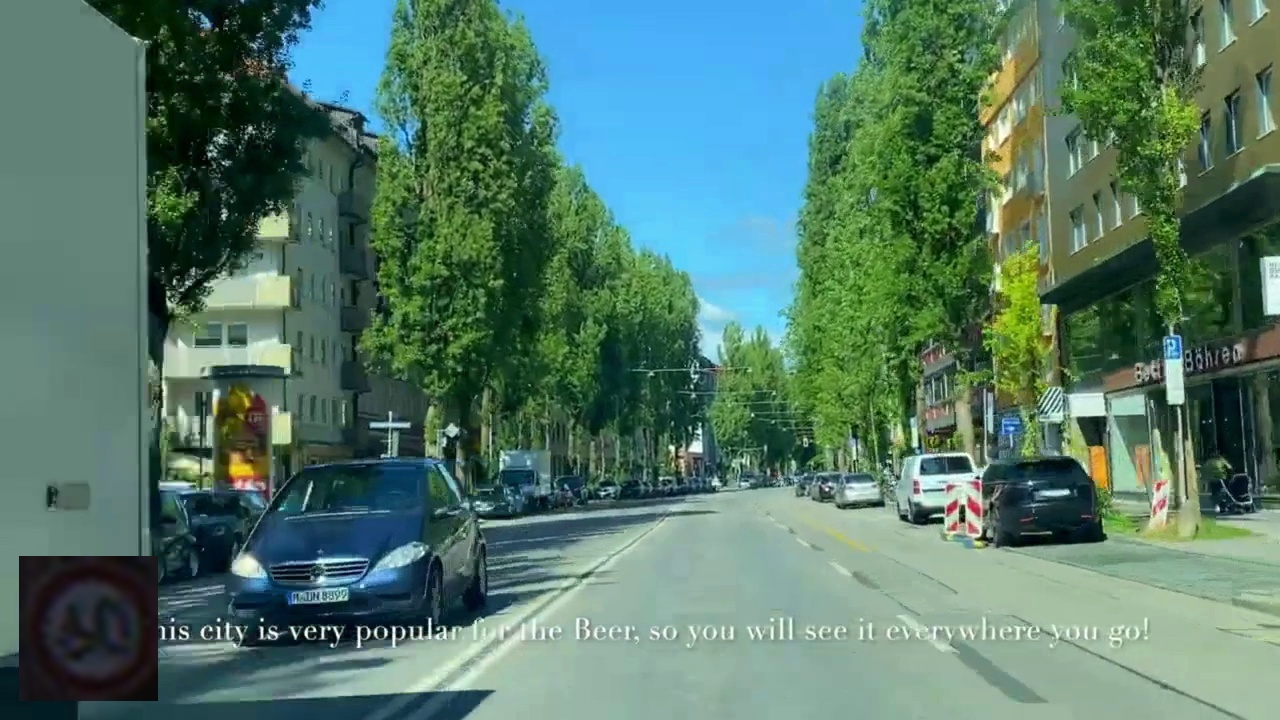Speed 60: (19, 556, 158, 701)
